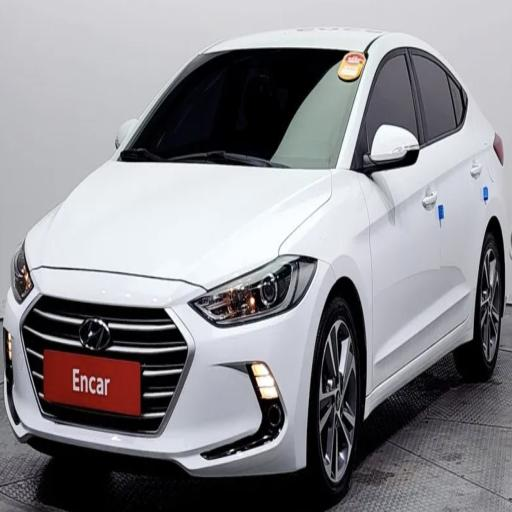normal: (2, 8, 512, 505)
